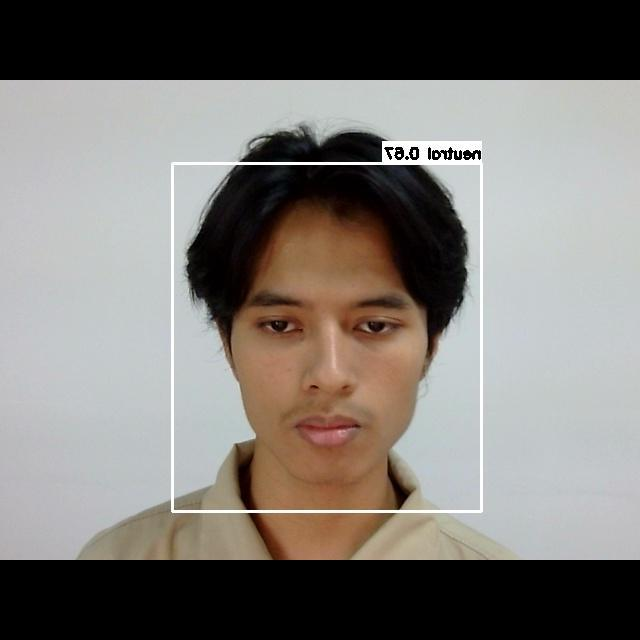Natural: (229, 256, 428, 491)
